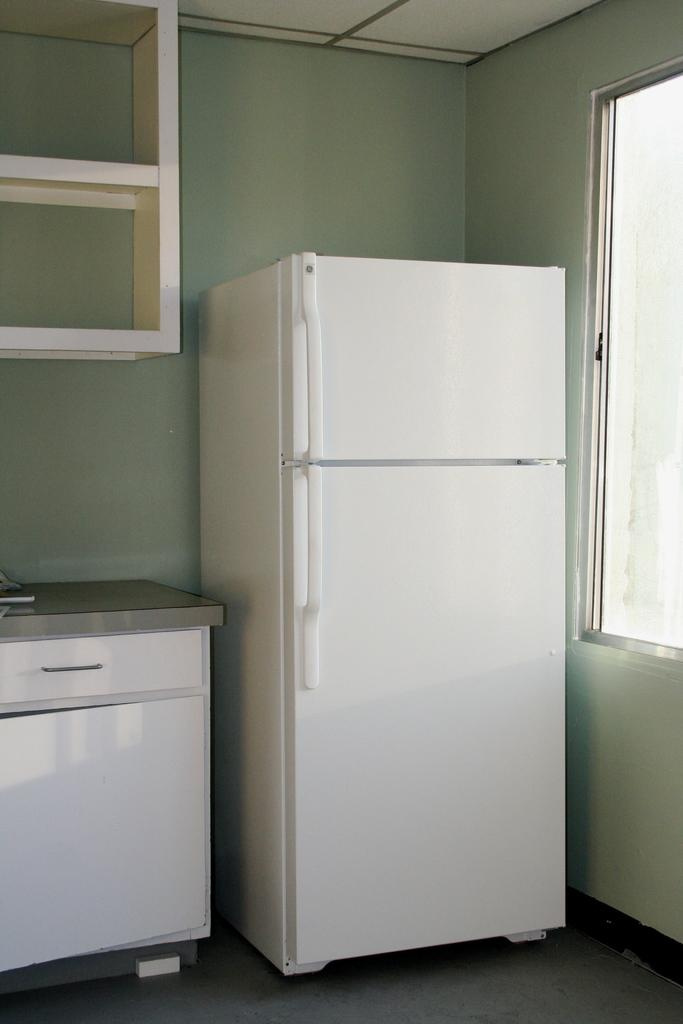cabinet_door: (0, 720, 204, 923), (1, 637, 206, 701)
handle: (296, 474, 328, 666), (300, 254, 330, 454), (41, 650, 102, 681)
